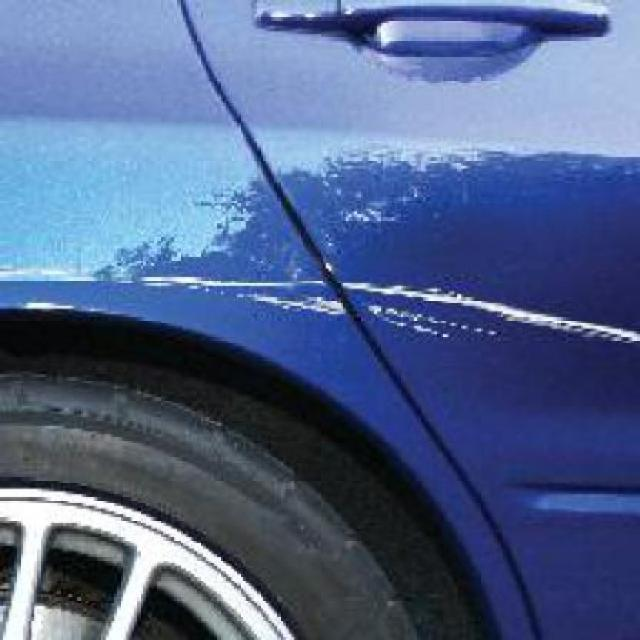dent-or-scratch: (0, 243, 637, 363)
